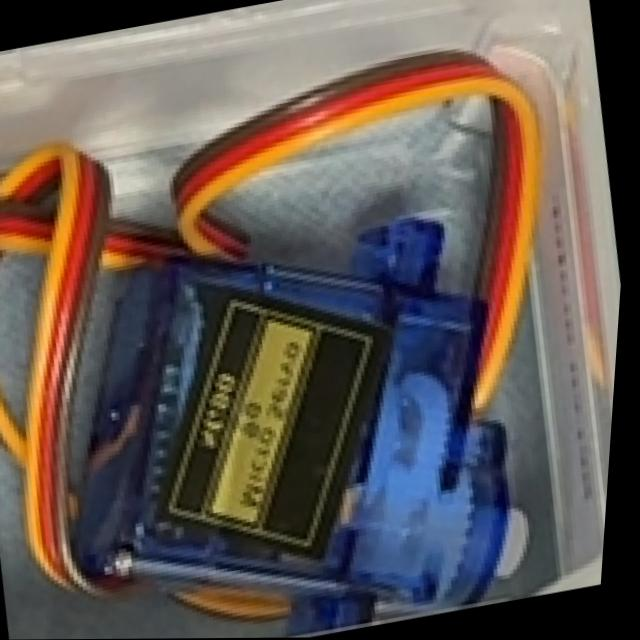Resistor: (16, 194, 562, 640)
